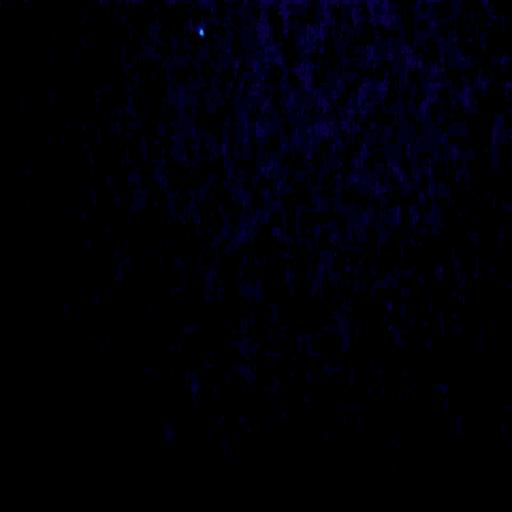object-detection-project: (199, 29, 203, 37)
